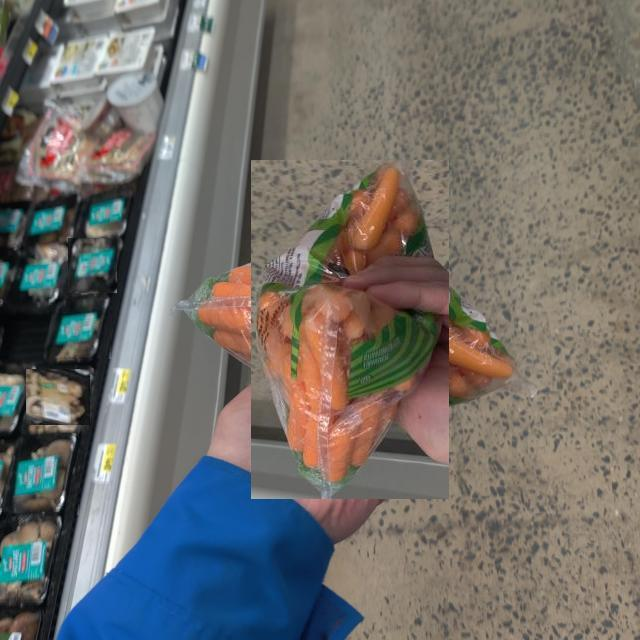Carrots: (251, 159, 449, 499)
Mushrooms: (0, 513, 62, 601), (16, 436, 79, 515), (50, 300, 111, 359), (25, 370, 90, 425), (68, 237, 117, 293)
